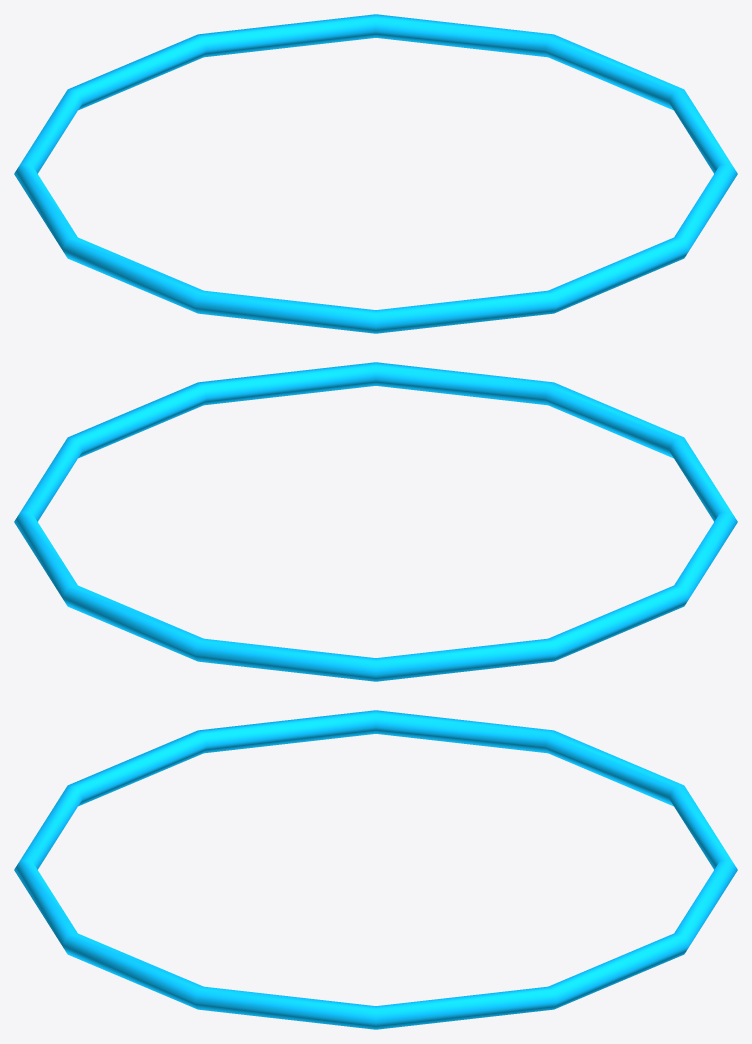
Rendered from HulaHoopBlue.glb.
3 views of the same model, one above another, from view 1: azimuth 30°, elevation 25°; view 2: azimuth 150°, elevation 25°; view 3: azimuth 270°, elevation 25° (orthographic).
Parts seen in each view (by area): view 1: HulaHoopBlue; view 2: HulaHoopBlue; view 3: HulaHoopBlue.
Part boxes in pixels (x1,y1,x2,y2): HulaHoopBlue: (14, 14, 737, 333); HulaHoopBlue: (14, 362, 737, 681); HulaHoopBlue: (14, 710, 737, 1029).
Bounding box in the file's own units: 1.04 × 0.0296 × 1.04.
1 material, 1 textured.
